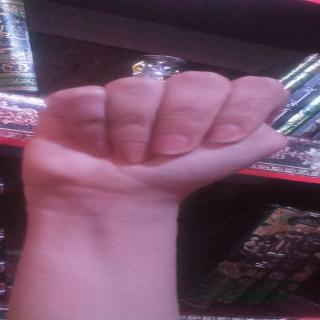SAD: (5, 58, 320, 208)
